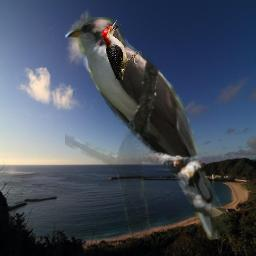Cuckoo: (65, 17, 234, 240)
Woodpecker: (102, 20, 142, 80)
